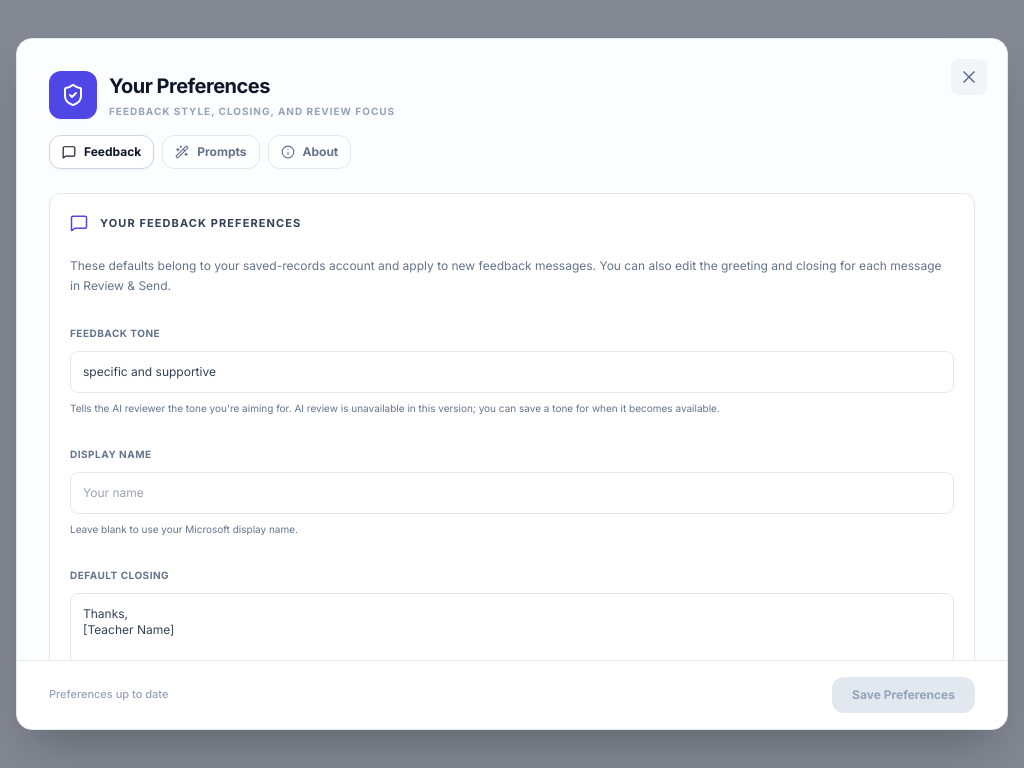
Scenario: review focus settings › copies earlier text into review focus on request, and saves it with the version
Later steps or results of the test are not shown.
Click the button "Prompts": (211, 152) [162,135,260,169]
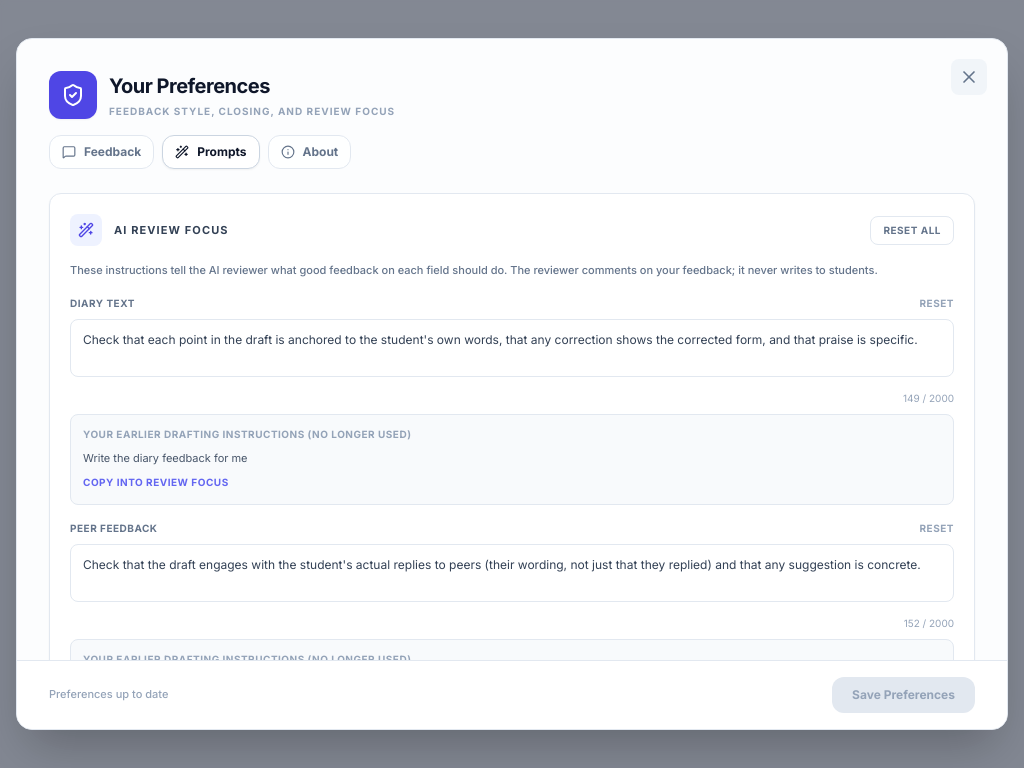
Click the button "Copy into review focus": (156, 482) [83,475,229,490]
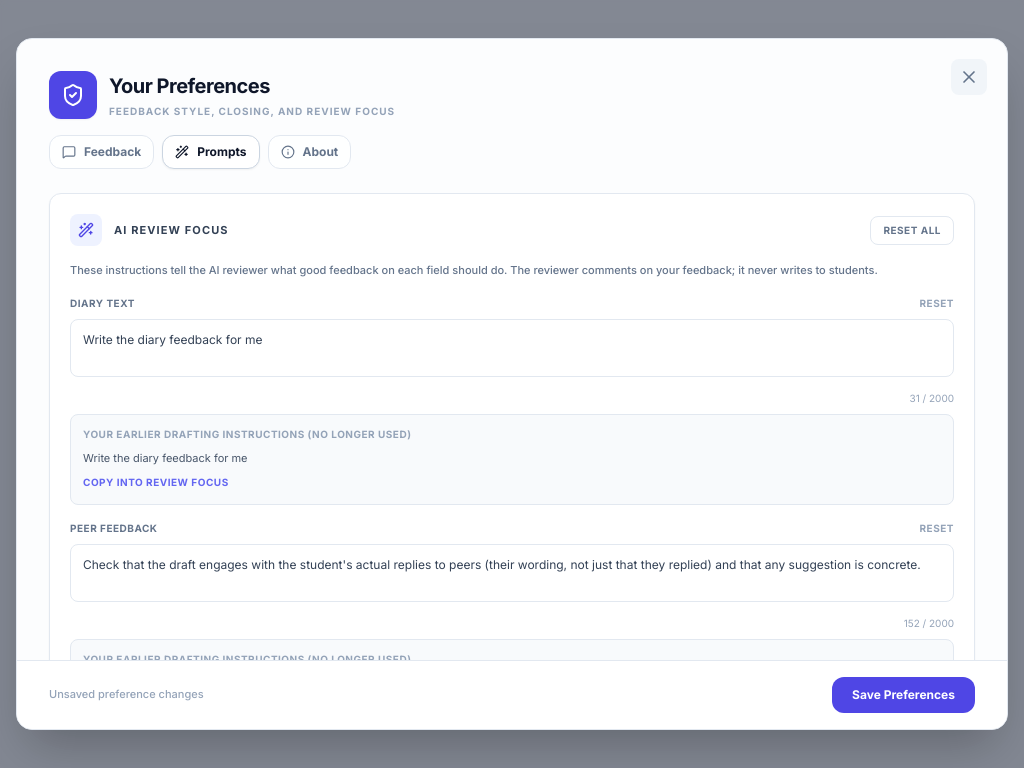
Check: the button "Save Preferences" is shown, box [832,677,975,713]
Check: the text box with id "settings-review-focus-diaryText" holds "Write the diary feedback for me", box [70,319,954,377]
